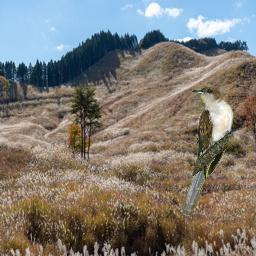Cuckoo: (182, 86, 234, 216)
